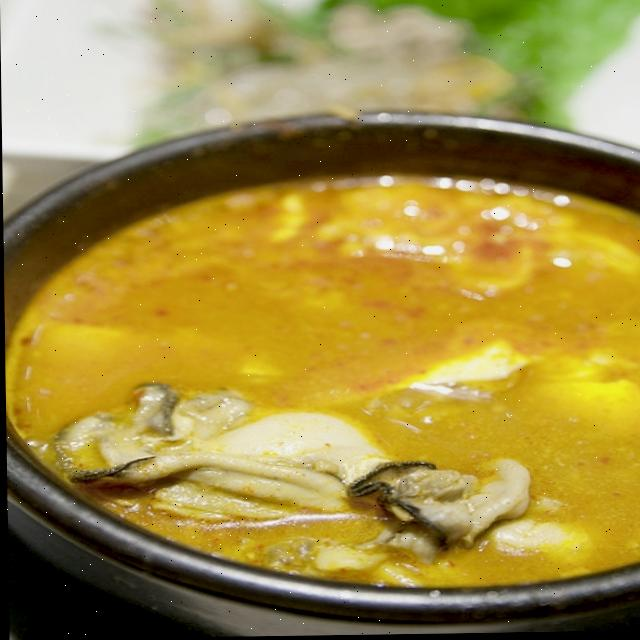汤锅炖物: (6, 112, 640, 595)
